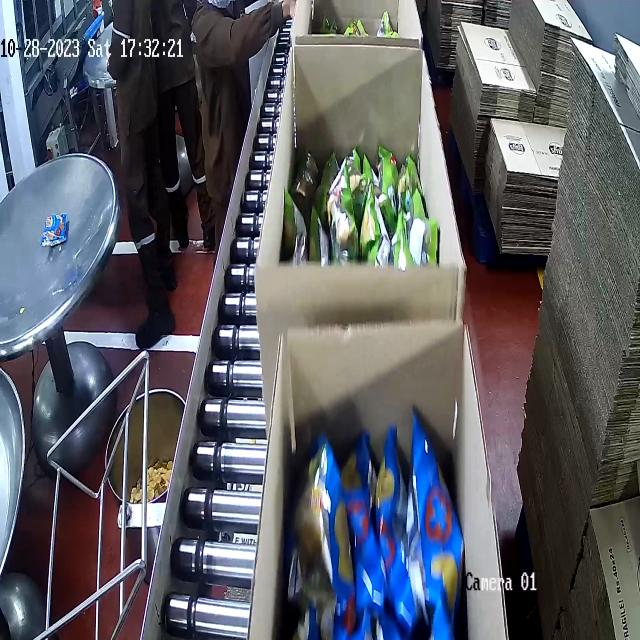PAPRIKA: (284, 392, 474, 640)
